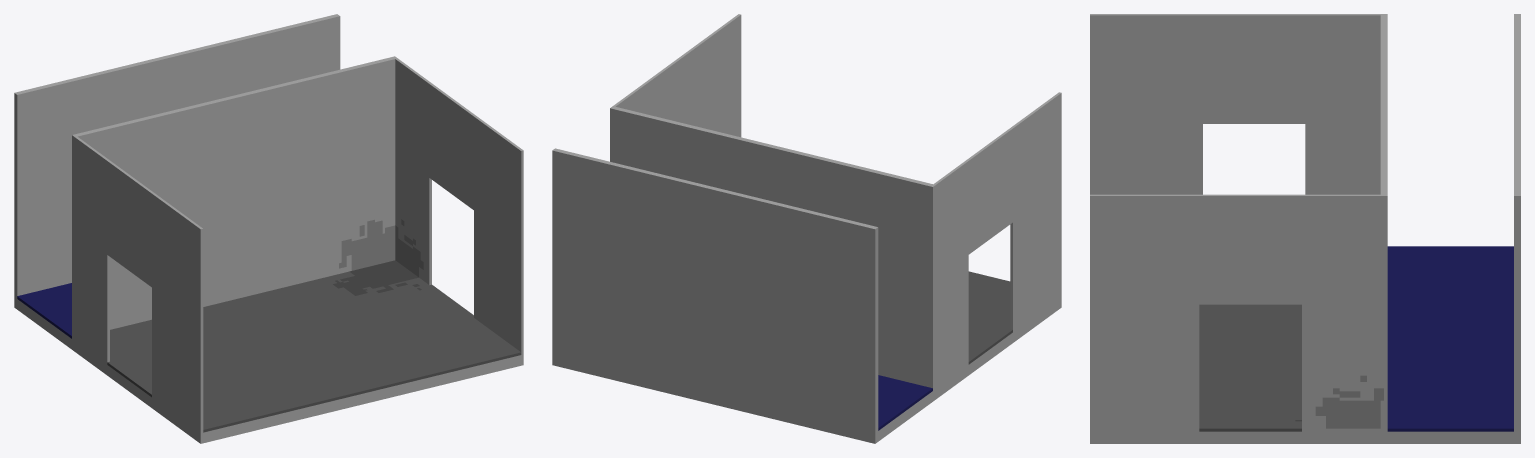
Rendered from 4x2 first (1)-4.obj.
3 views of the same model, side by side, from view 1: azimuth 30°, elevation 25°; view 2: azimuth 150°, elevation 25°; view 3: azimuth 270°, elevation 25° (orthographic). The views are drawn at different scales.
Parts seen in each view (by area): view 1: 4x2 first (1)-4; view 2: 4x2 first (1)-4; view 3: 4x2 first (1)-4.
Part boxes in pixels (x1,y1,x2,y2): 4x2 first (1)-4: (14,14,523,443); 4x2 first (1)-4: (552,14,1061,443); 4x2 first (1)-4: (1090,14,1520,443).
Bounding box in the file's own units: 126 × 80 × 126.
Materials: 1 (1 with a texture image).
